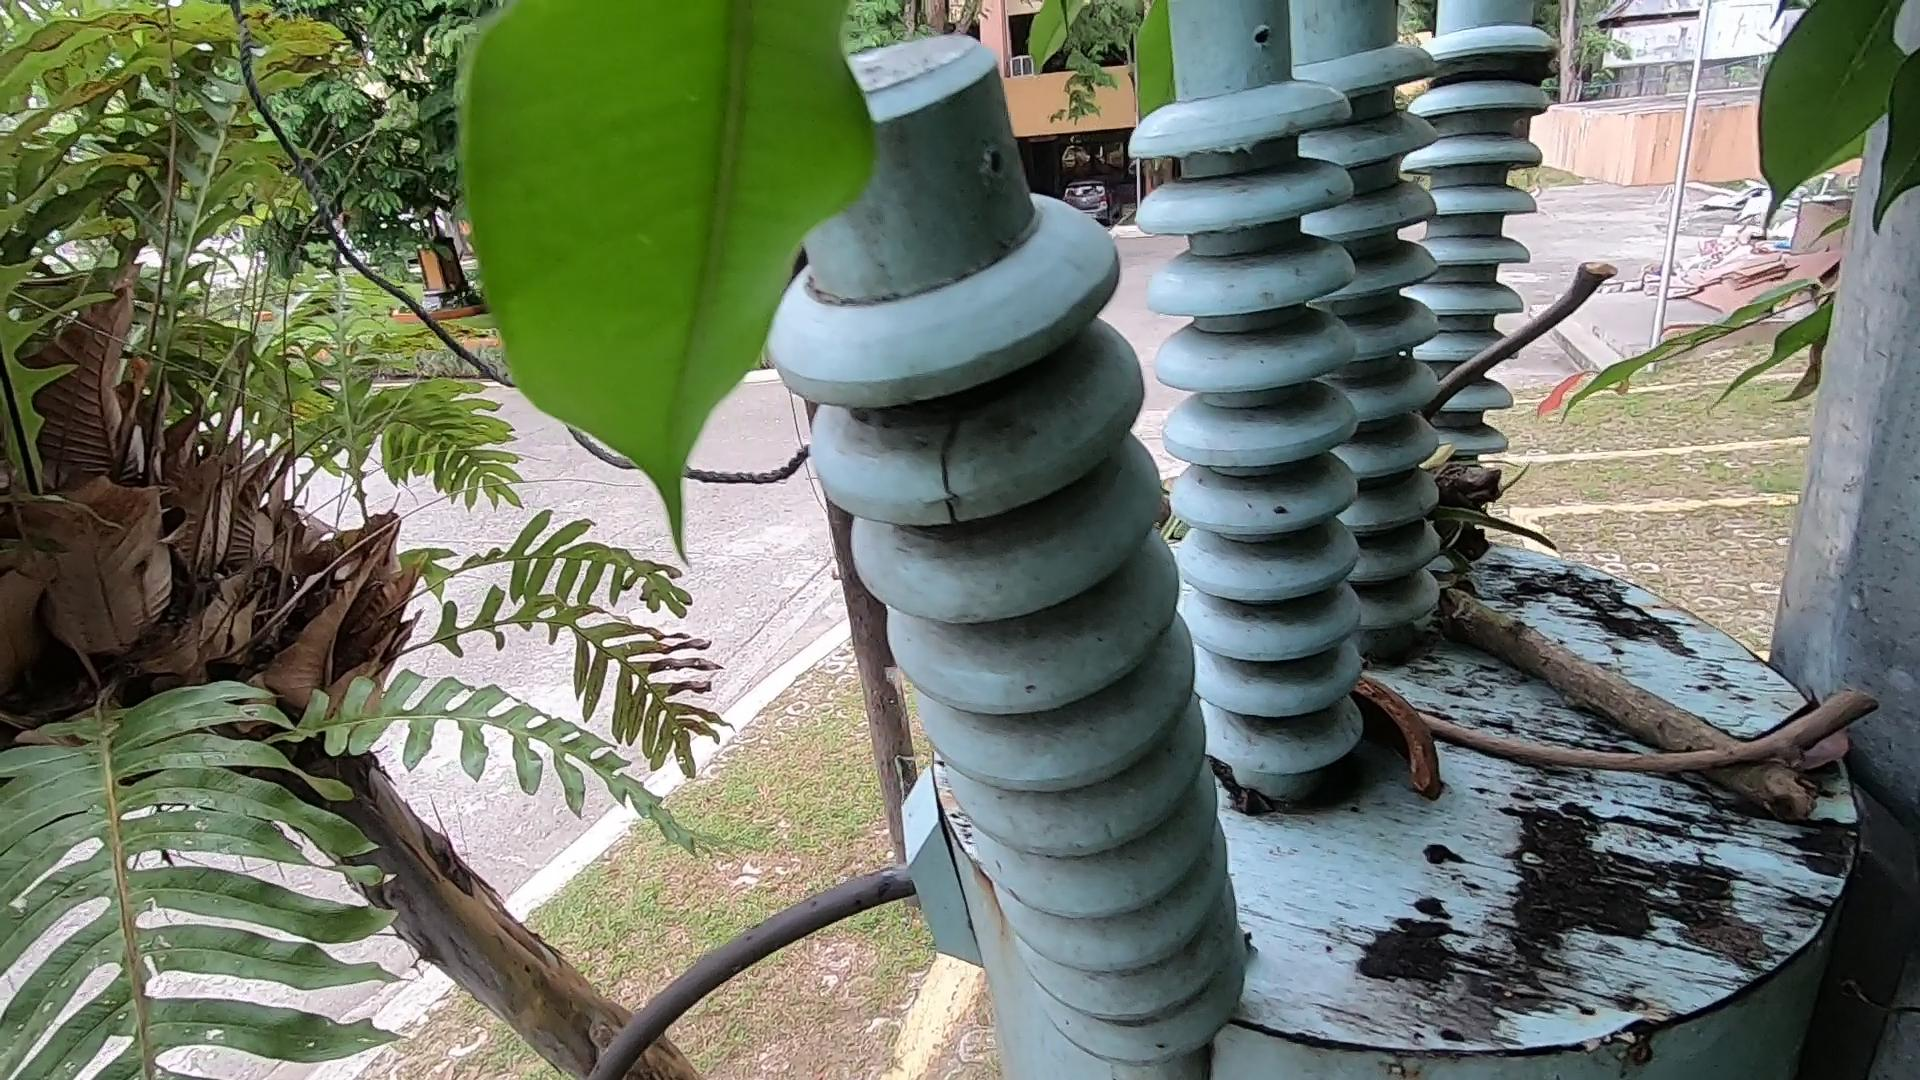branch with leaves: (1375, 390, 1849, 869)
leaf: (1756, 736, 1870, 778), (1236, 913, 1261, 957)
mahogany fruit: (1333, 649, 1458, 833)
tree branch: (1313, 655, 1898, 848), (1381, 208, 1626, 476)
